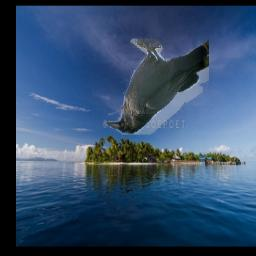Crow: (105, 39, 210, 135)
